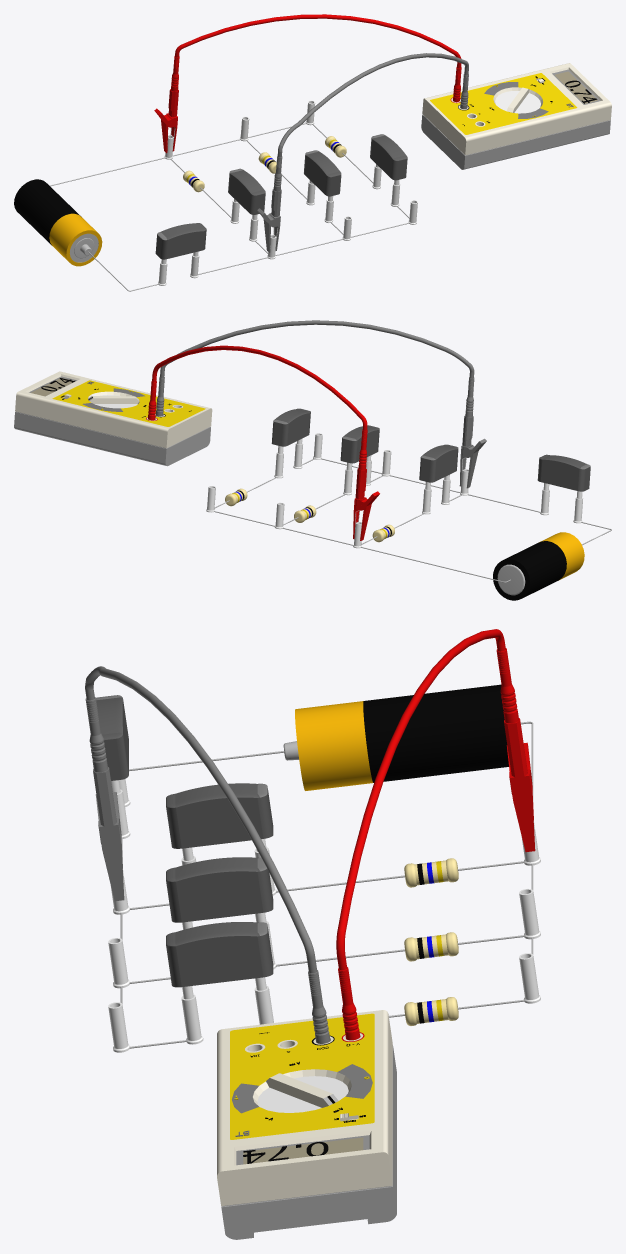
Rendered from circuit_paralel.glb.
3 renders of one model, top to bottom at view 1: azimuth 30°, elevation 25°; view 2: azimuth 150°, elevation 25°; view 3: azimuth 270°, elevation 25°, orthographic. The views are drawn at different scales.
Parts seen in each view (by area): view 1: Material2 (×9), Material3 (×5); view 2: Material2 (×7), Material3 (×4); view 3: Material2 (×9), Material3 (×5).
Part boxes in pixels (<box>): Material2 (×9): <box>14,14,597,291</box>; Material3 (×5): <box>155,63,611,259</box>; Material2 (×7): <box>41,320,611,600</box>; Material3 (×4): <box>14,371,590,542</box>; Material2 (×9): <box>85,629,540,1163</box>; Material3 (×5): <box>96,697,458,1239</box>.
Bounding box in the file's own units: 248 × 76.64 × 93.39.
